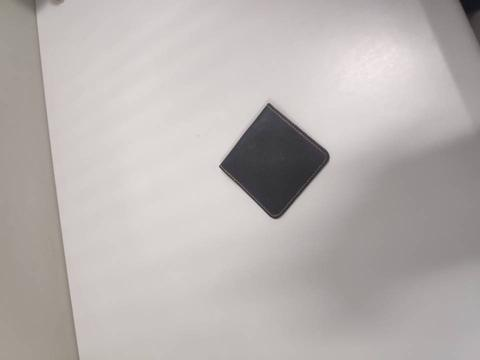wallet: (215, 103, 332, 217)
